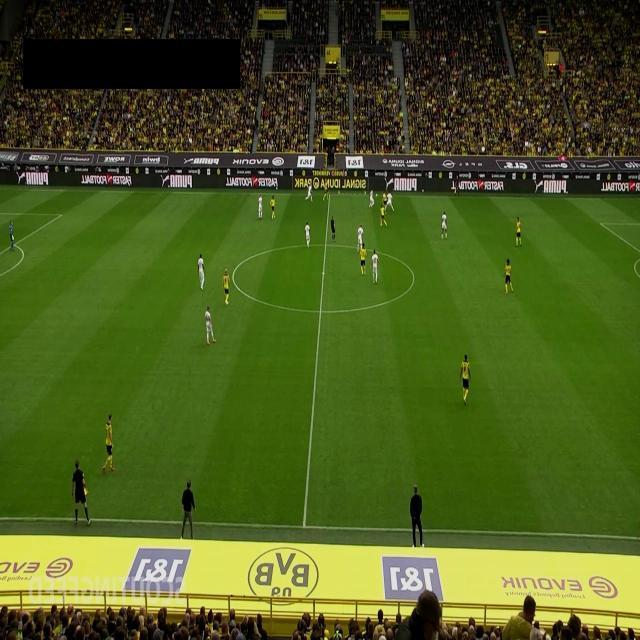Ball: (376, 192, 378, 198)
GoalKeeper: (8, 220, 15, 252)
Referee: (71, 457, 91, 527), (330, 216, 336, 242), (454, 172, 460, 196)
TEAM 1: (102, 413, 116, 475), (459, 354, 471, 406), (504, 258, 514, 294), (222, 268, 230, 306), (360, 242, 368, 276), (515, 216, 522, 246), (380, 202, 388, 226), (322, 178, 330, 202), (380, 190, 388, 212), (270, 195, 276, 219)
TEAM 2: (204, 305, 216, 345), (370, 249, 380, 285), (197, 253, 205, 291), (357, 223, 365, 253), (440, 210, 448, 240), (384, 191, 394, 213), (304, 220, 311, 248), (305, 182, 313, 202), (257, 194, 263, 220), (369, 190, 375, 208)
